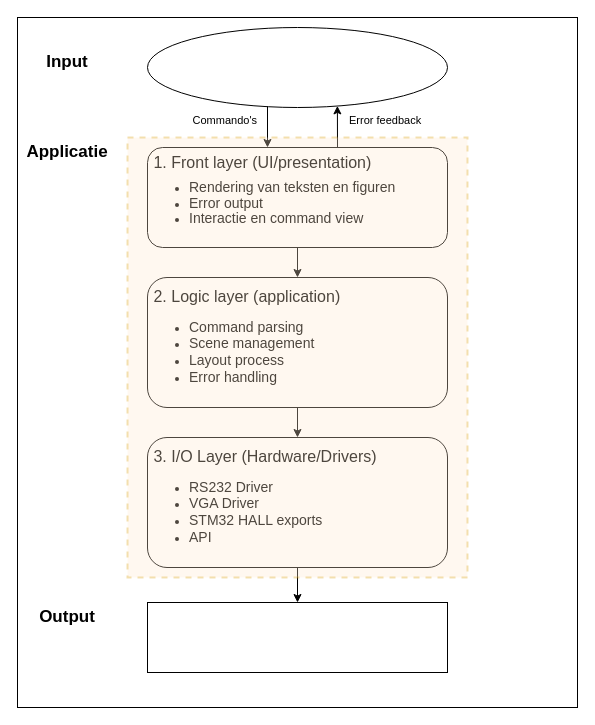
Some shapes in this 595 by 725 pixel diagram are drawn without their labels. Here are the shapes that lost their labels. From the top down, the centre of each, then its label:
(x=297, y=67): Input script
(x=297, y=637): VGA scherm
